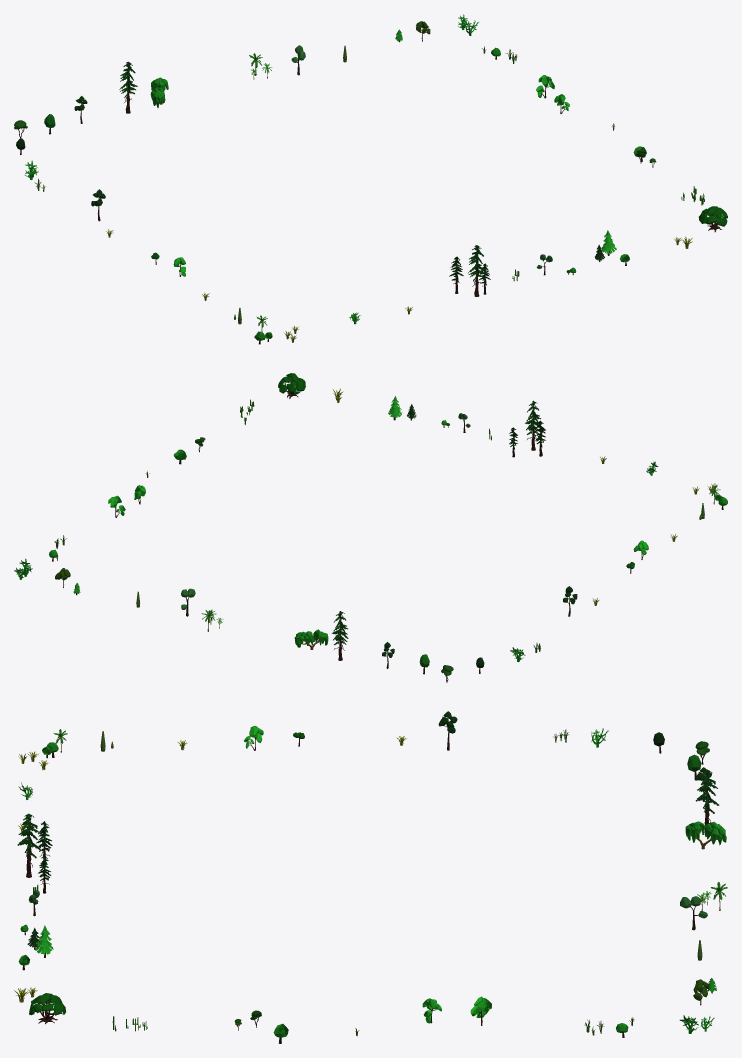
File: Plants.fbx
3 views of the same model, one above another, from view 1: azimuth 30°, elevation 25°; view 2: azimuth 150°, elevation 25°; view 3: azimuth 270°, elevation 25° (orthographic). The views are drawn at different scales.
Visible parts, largest first — view 1: tree006__7_; view 2: tree006__7_; view 3: tree006__7_.
Boxes of the visible parts, x1,y1,x2,y2 form: tree006__7_: (14, 14, 727, 344); tree006__7_: (14, 373, 727, 682); tree006__7_: (14, 711, 727, 1043).
Size of the model in its own units: 6339 by 700 by 6396.
